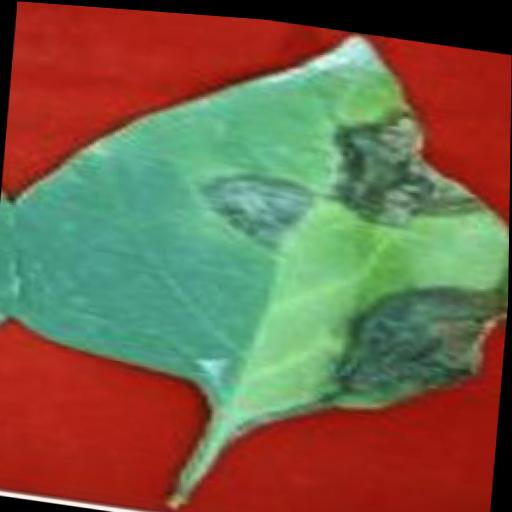Bacterial Spot: (0, 0, 512, 452)
